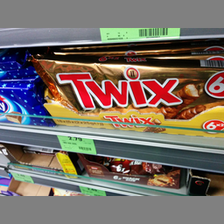chocolate: (33, 57, 224, 124)
